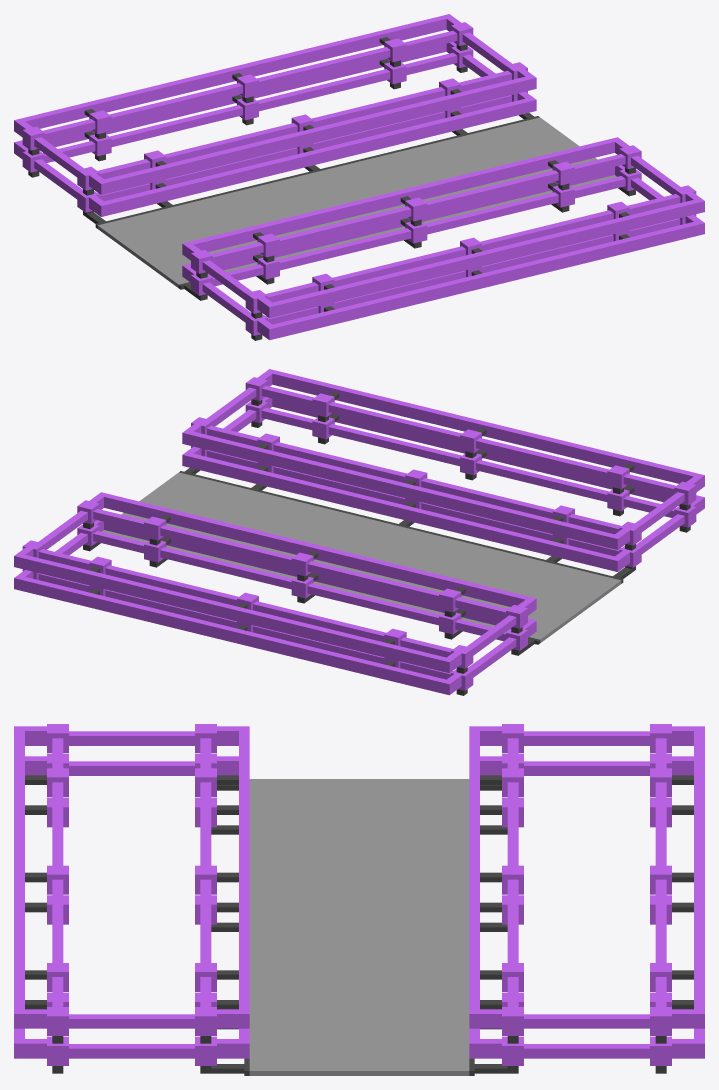
Rendered from straight.obj.
The picture shows the model from 3 angles, top to bottom: view 1: azimuth 30°, elevation 25°; view 2: azimuth 150°, elevation 25°; view 3: azimuth 270°, elevation 25°; orthographic projection. The views are drawn at different scales.
Size of the model in its own units: 126 by 12 by 126.
Materials: 1 (1 with a texture image).
